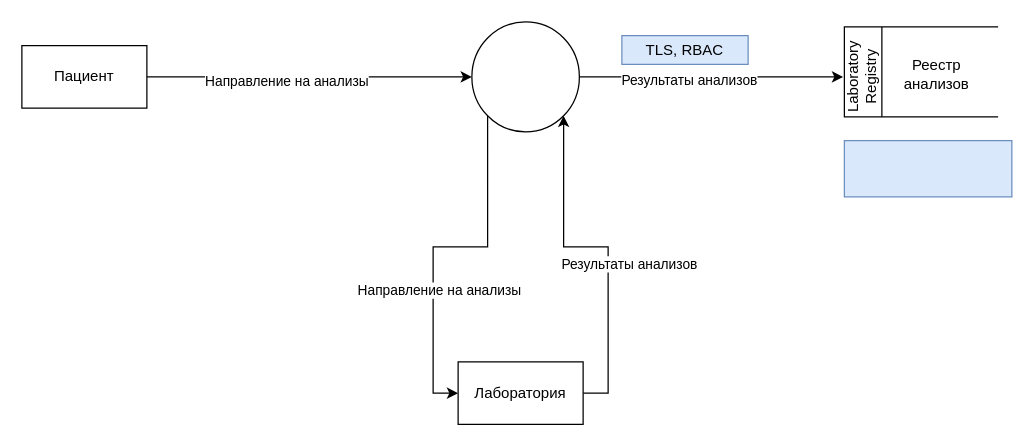
Image size: 1034x446. Some labels were removed from this diagram. The shapes that lost their labels are listed below. From the top down, each one's centre as x and y in pixels, then its label:
point 525,76: Анализы
point 927,168: PII, PHI Шифрование at rest Аудит доступа
